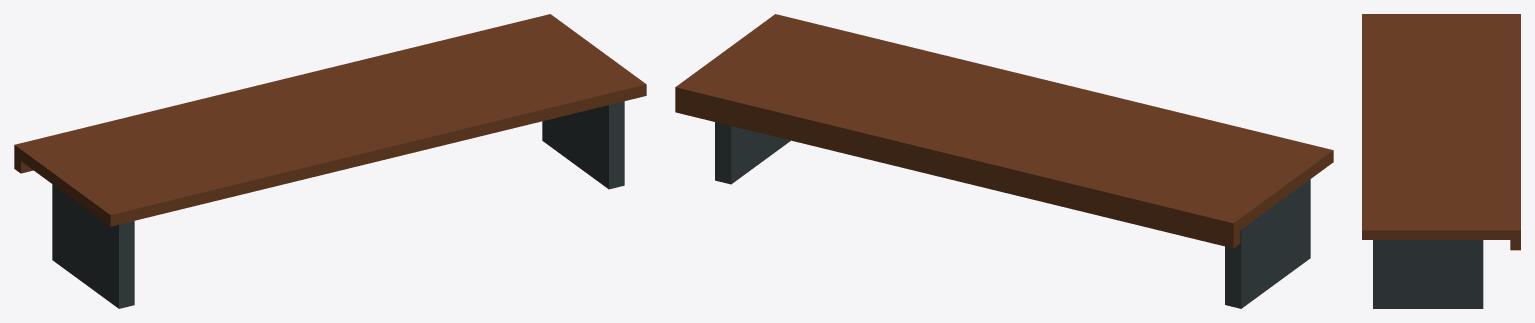
Rendered from desk.obj.
3 renders of one model, left to right at view 1: azimuth 30°, elevation 25°; view 2: azimuth 150°, elevation 25°; view 3: azimuth 270°, elevation 25°, orthographic. The views are drawn at different scales.
Parts seen in each view (by area): view 1: top, leg; view 2: top, leg, front_edge; view 3: top, leg, front_edge.
Part boxes in pixels (x1=…): top: x1=14, y1=14, x2=646, y2=226; leg: x1=52, y1=101, x2=624, y2=308; top: x1=675, y1=14, x2=1333, y2=235; leg: x1=715, y1=122, x2=1310, y2=308; front_edge: x1=675, y1=99, x2=1240, y2=248; top: x1=1362, y1=14, x2=1520, y2=239; leg: x1=1373, y1=240, x2=1483, y2=308; front_edge: x1=1510, y1=239, x2=1520, y2=250.
Bounding box in the file's own units: 5.8 × 1.06 × 1.8.
